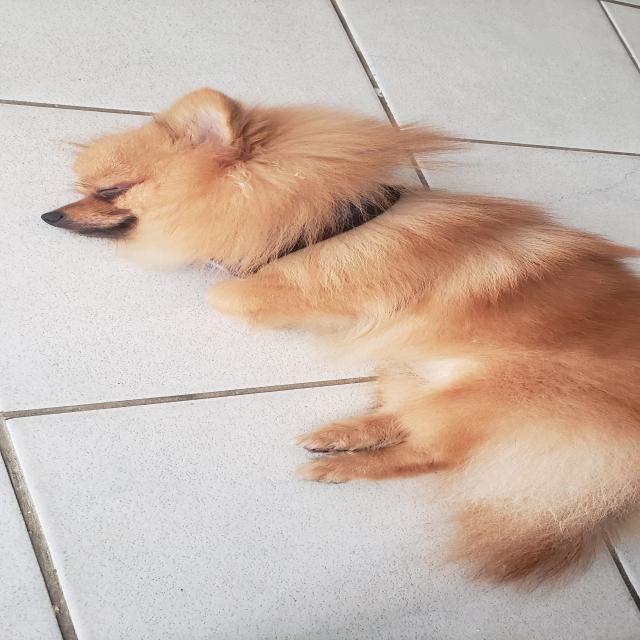laying down: (36, 86, 640, 596)
